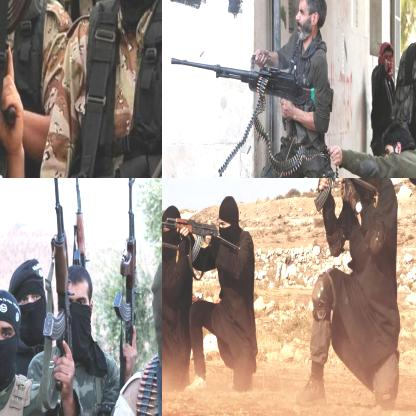rifle: (165, 53, 335, 125), (39, 178, 70, 388), (113, 178, 138, 347), (162, 215, 239, 261), (272, 178, 377, 210), (374, 178, 415, 218), (68, 178, 85, 266), (162, 221, 179, 273)
